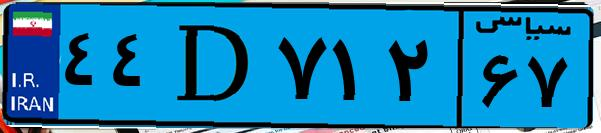1: (330, 28, 385, 110)
2: (385, 28, 445, 110)
4: (57, 26, 110, 100), (110, 28, 158, 98)
6: (475, 38, 525, 113)
7: (270, 28, 330, 110), (525, 38, 570, 115)
D: (158, 12, 270, 120)
